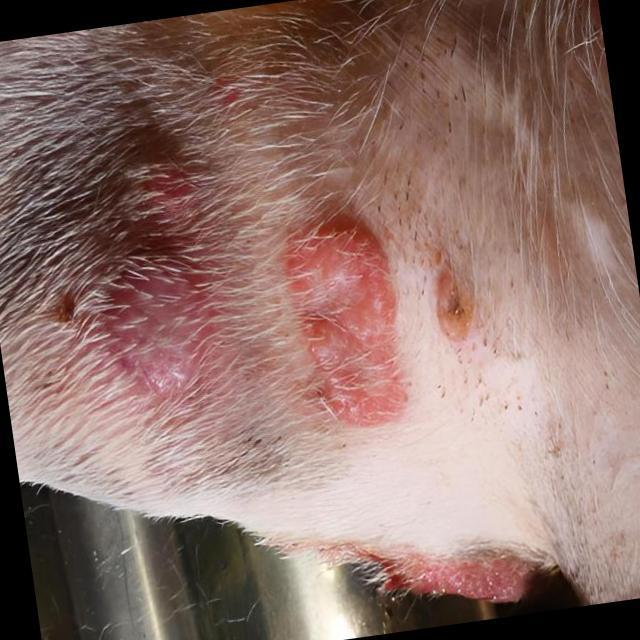allergic dermatitis: (72, 126, 248, 416), (282, 206, 426, 449)
